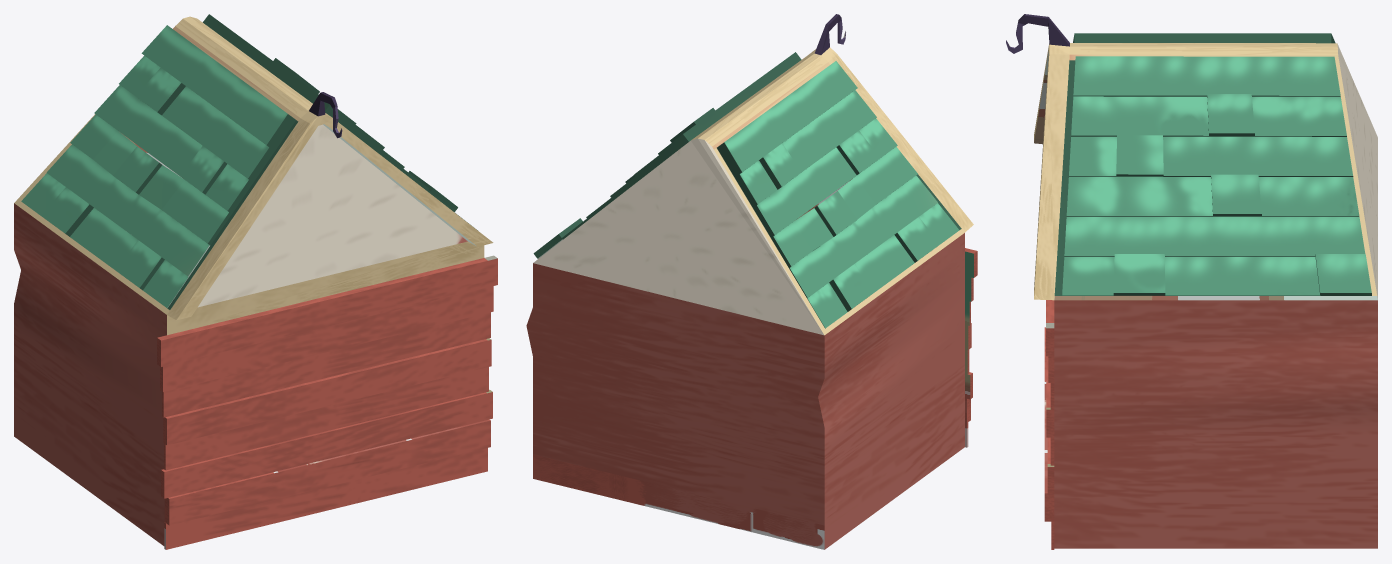
File: HOUSEDONE.FBX
3 renders of one model, left to right at view 1: azimuth 30°, elevation 25°; view 2: azimuth 150°, elevation 25°; view 3: azimuth 270°, elevation 25°, orthographic. The views are drawn at different scales.
Parts seen in each view (by area): view 1: Box024; view 2: Box024; view 3: Box024.
Part boxes in pixels (x1,y1,x2,y2): Box024: (14, 14, 497, 549); Box024: (526, 14, 977, 549); Box024: (1006, 14, 1377, 549).
Size of the model in its own units: 94.32 by 113 by 85.15.
1 material, 1 textured.
